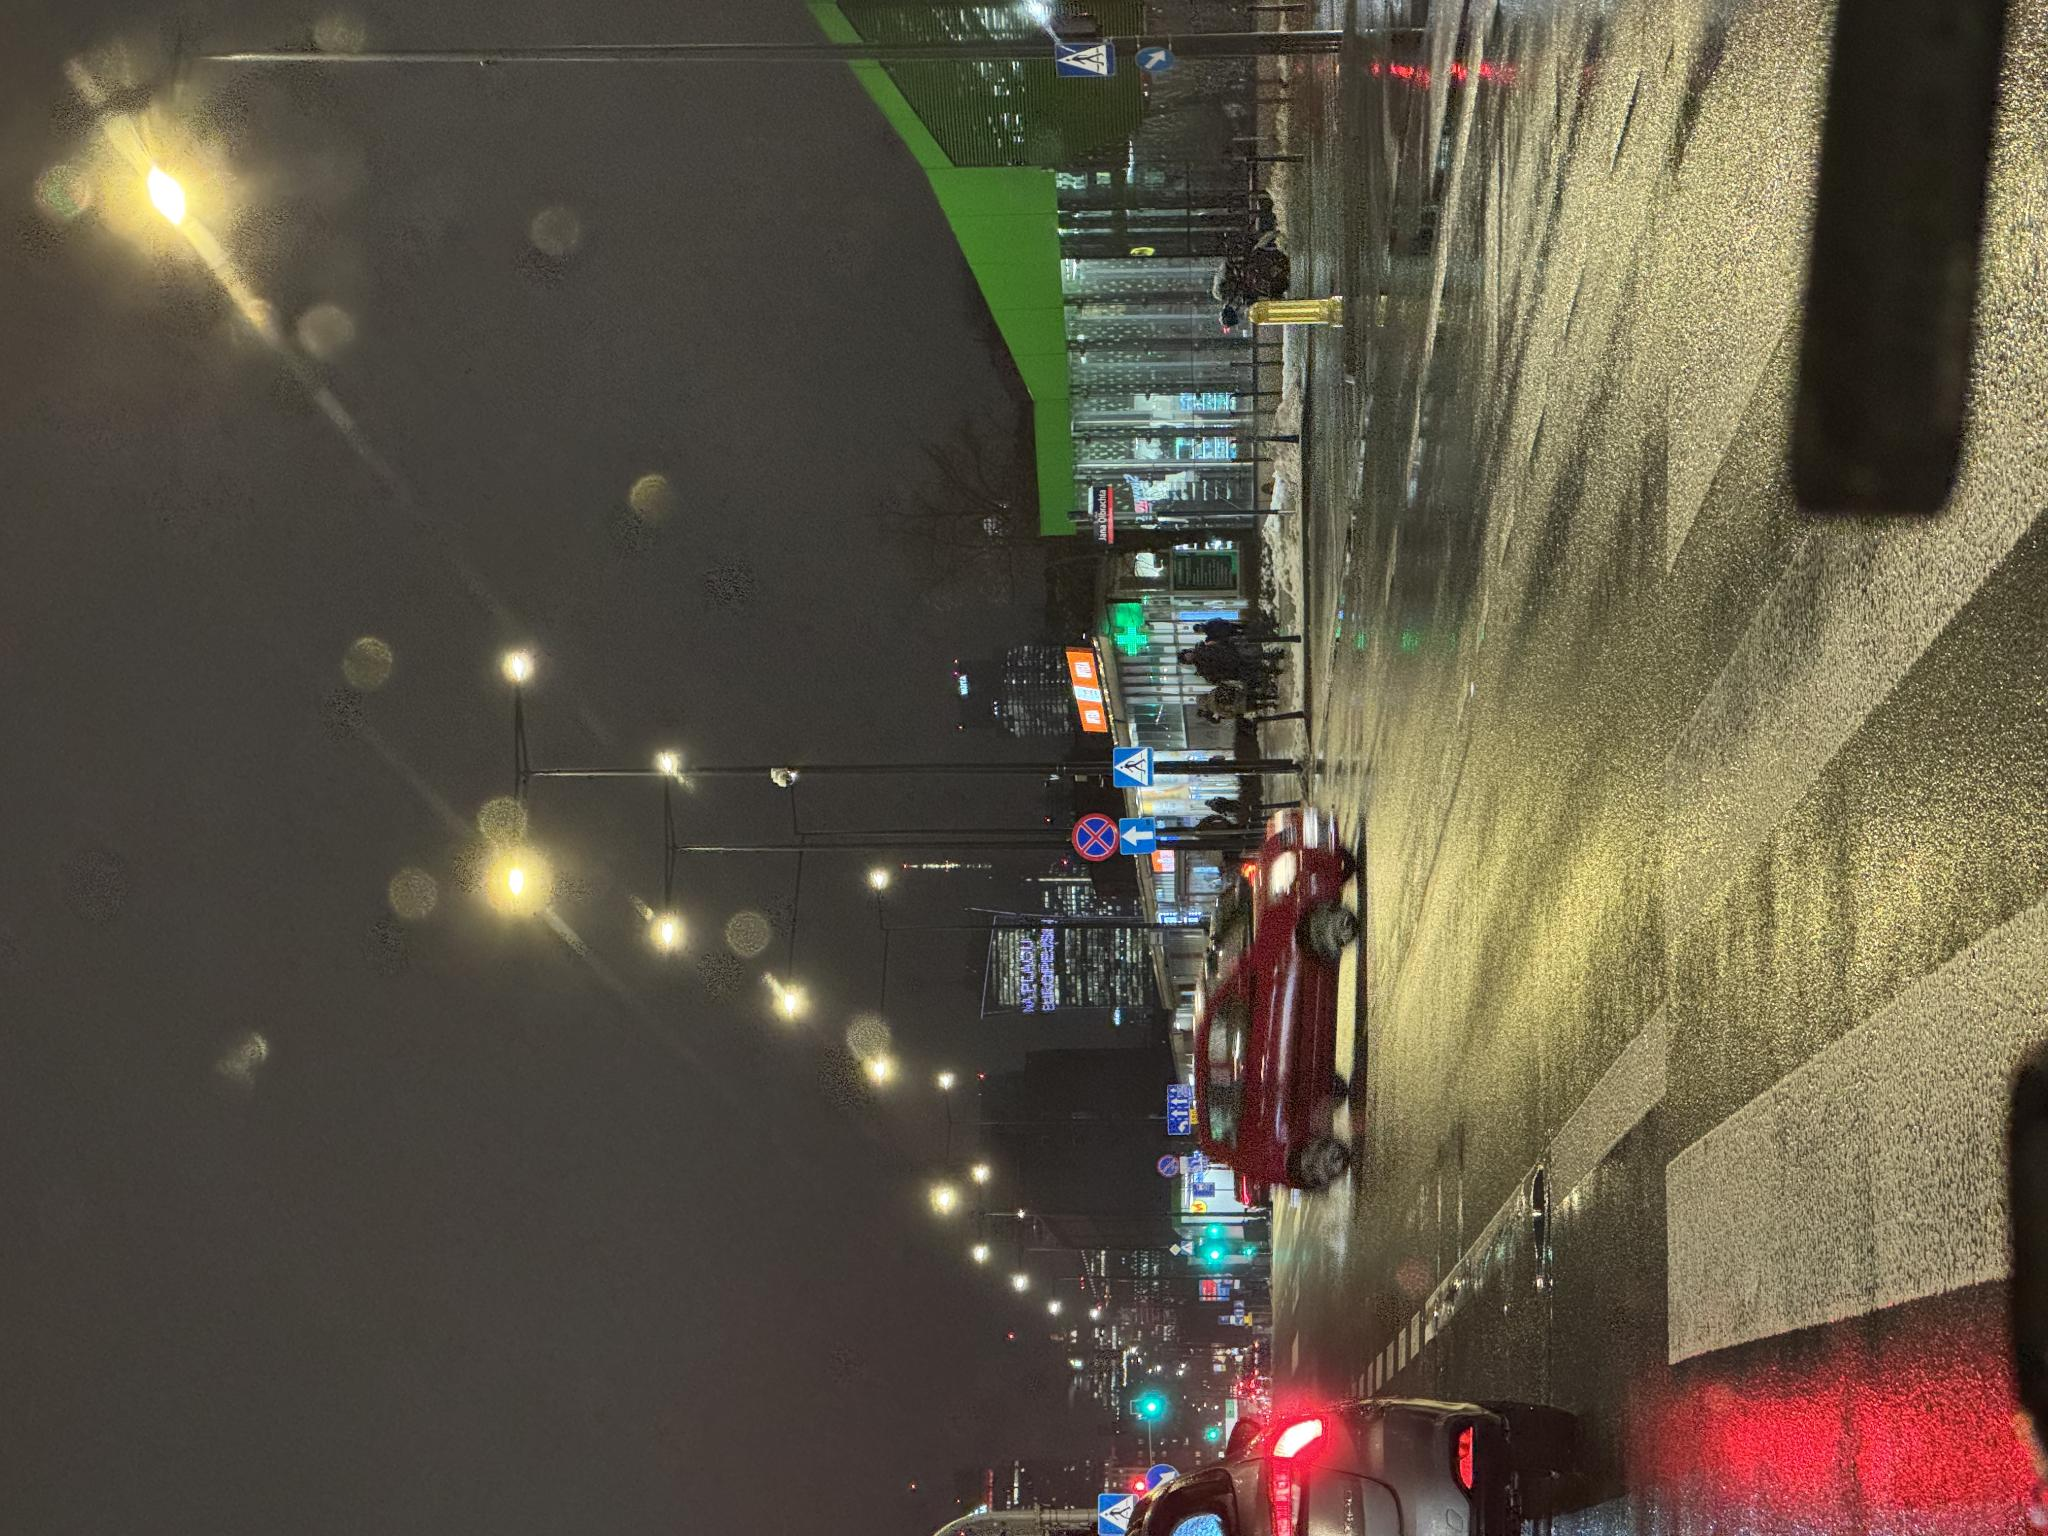information: (1458, 1054, 1494, 1116), (0, 1098, 42, 1138), (749, 1113, 789, 1153), (680, 1120, 720, 1156), (281, 1180, 295, 1194), (280, 1170, 294, 1180)
mandatory: (1464, 1134, 1490, 1176), (41, 1144, 71, 1180)
other: (400, 1167, 452, 1189)
prohibitory: (674, 1071, 724, 1119), (358, 1156, 382, 1180)
